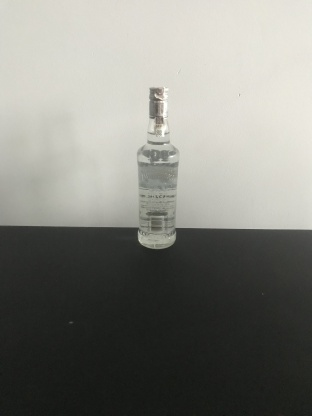nakretka: (147, 82, 170, 119)
